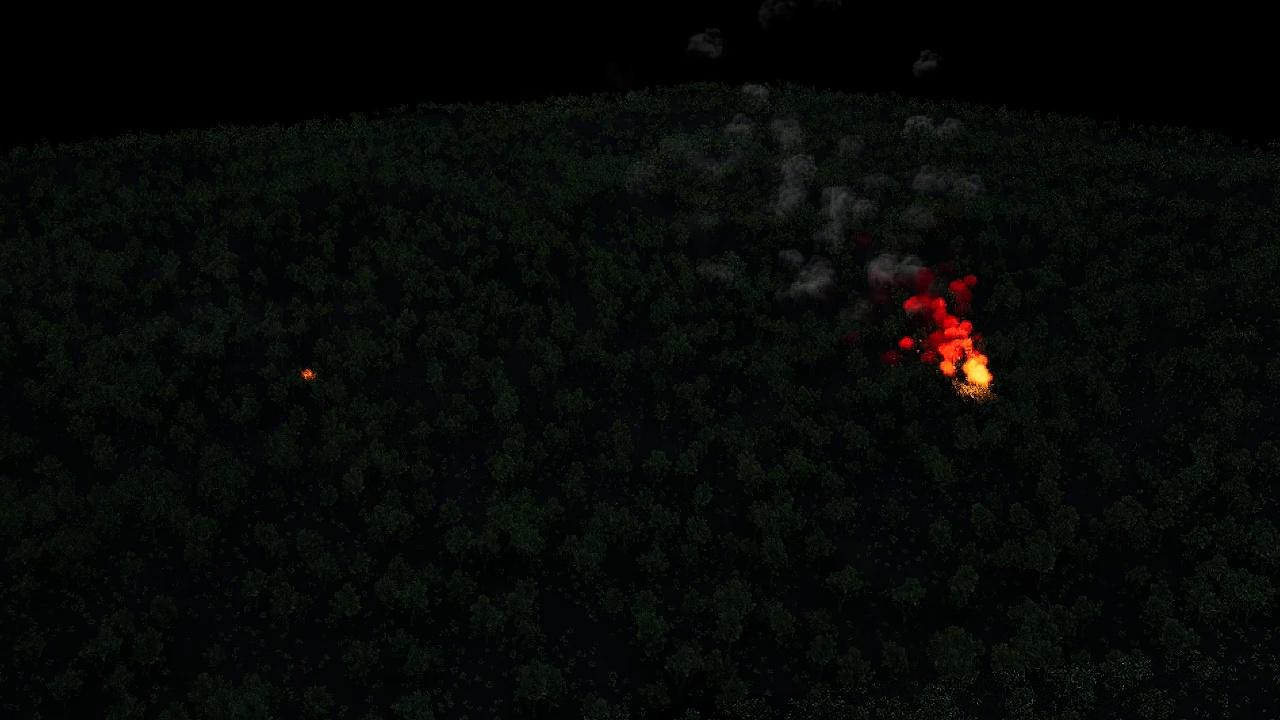fire: (962, 355, 993, 389), (301, 367, 314, 380)
smoke: (766, 176, 983, 376), (713, 86, 807, 220), (902, 111, 961, 140), (688, 153, 738, 180), (687, 28, 725, 59), (910, 52, 941, 79), (699, 262, 737, 284), (687, 209, 721, 231)
